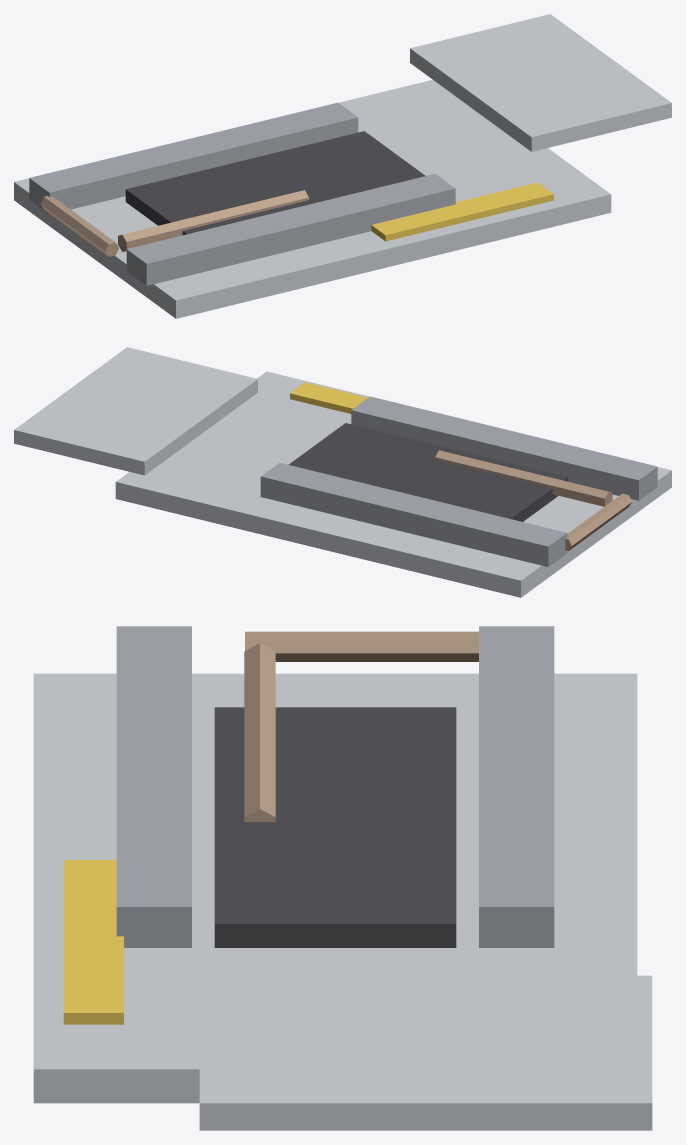
The model's file is prop_debris.glb.
The picture shows the model from 3 angles, top to bottom: view 1: azimuth 30°, elevation 25°; view 2: azimuth 150°, elevation 25°; view 3: azimuth 270°, elevation 25°; orthographic projection. The views are drawn at different scales.
Parts seen in each view (by area): view 1: prop_debris; view 2: prop_debris; view 3: prop_debris.
Part boxes in pixels (x1,y1,x2,y2): prop_debris: (14,14,671,318); prop_debris: (14,347,671,597); prop_debris: (33,626,652,1130).
Bounding box in the file's own units: 0.79 × 0.07 × 0.41.
